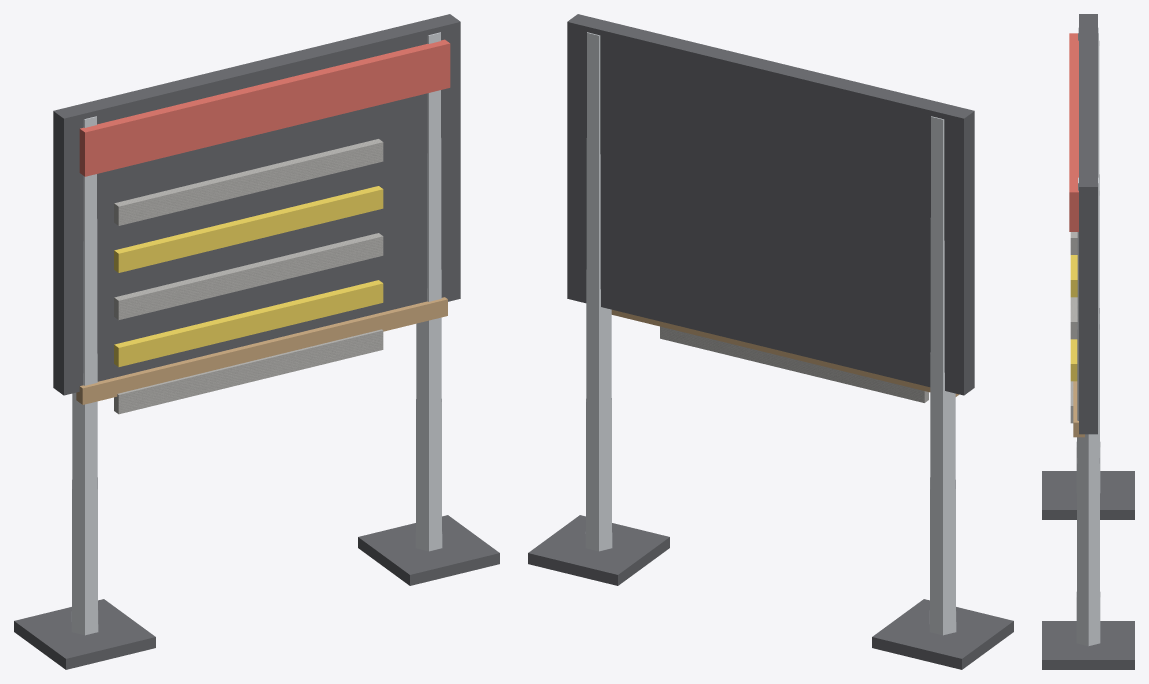
3 renders of one model, left to right at view 1: azimuth 30°, elevation 25°; view 2: azimuth 150°, elevation 25°; view 3: azimuth 270°, elevation 25°, orthographic. The views are drawn at different scales.
Parts seen in each view (by area): view 1: menu-board-on-legs-charcoal, menu-board-on-legs-concrete, menu-board-on-legs-scarlet, menu-board-on-legs-steel, menu-board-on-legs-canary, menu-board-on-legs-timber; view 2: menu-board-on-legs-charcoal, menu-board-on-legs-steel, menu-board-on-legs-concrete, menu-board-on-legs-timber; view 3: menu-board-on-legs-charcoal, menu-board-on-legs-steel, menu-board-on-legs-scarlet, menu-board-on-legs-concrete, menu-board-on-legs-canary, menu-board-on-legs-timber.
Part boxes in pixels (x1,y1,x2,y2): menu-board-on-legs-charcoal: (14,14,499,669); menu-board-on-legs-concrete: (114,139,383,414); menu-board-on-legs-scarlet: (79,39,450,176); menu-board-on-legs-steel: (71,32,442,635); menu-board-on-legs-canary: (114,186,383,366); menu-board-on-legs-timber: (76,297,447,404); menu-board-on-legs-charcoal: (528,14,1013,669); menu-board-on-legs-steel: (585,32,956,635); menu-board-on-legs-concrete: (660,326,928,402); menu-board-on-legs-timber: (611,309,959,396); menu-board-on-legs-charcoal: (1042,14,1134,669); menu-board-on-legs-steel: (1076,27,1100,646); menu-board-on-legs-scarlet: (1069,33,1078,231); menu-board-on-legs-concrete: (1070,232,1077,423); menu-board-on-legs-canary: (1070,255,1077,381); menu-board-on-legs-timber: (1073,381,1084,437).
Bounding box in the file's own units: 1.64 × 1.92 × 0.3399.
Materials: 6 (1 with a texture image).
